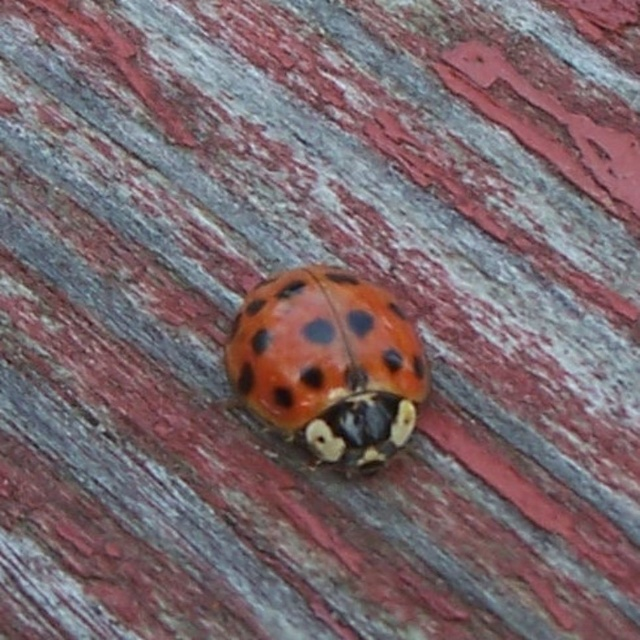Ladybug: (225, 267, 426, 480)
